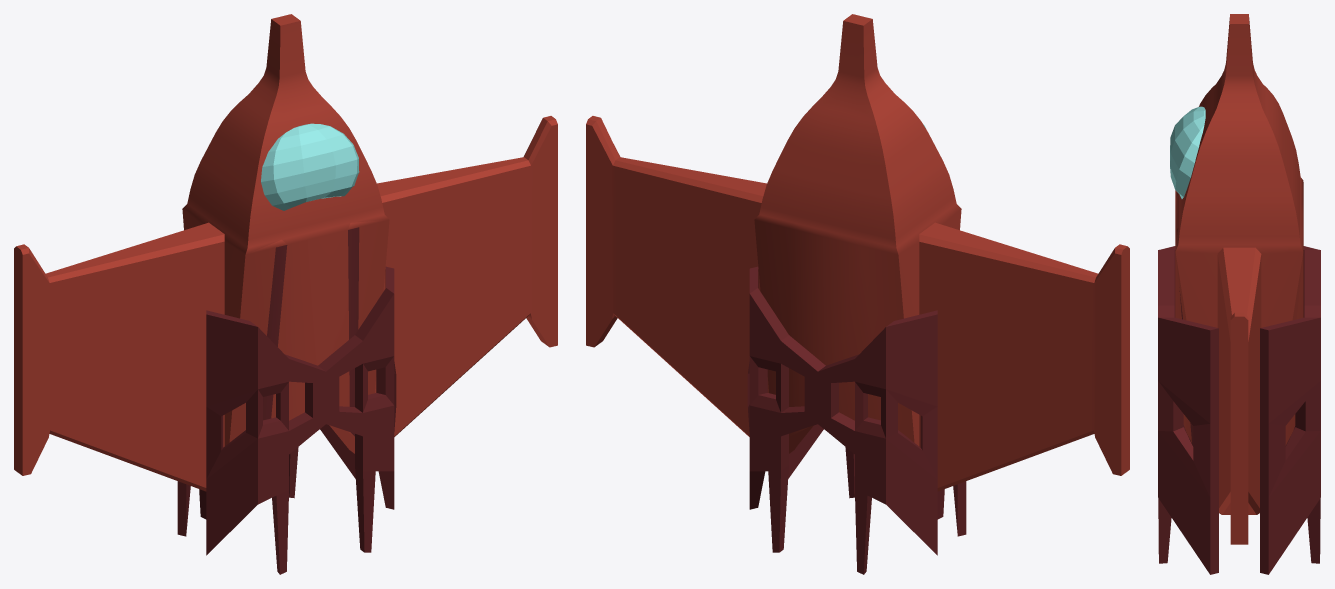
File: Player_rocket.fbx
3 renders of one model, left to right at view 1: azimuth 30°, elevation 25°; view 2: azimuth 150°, elevation 25°; view 3: azimuth 270°, elevation 25°, orthographic.
Visible parts, largest first — view 1: pCube4, pCube7, pSphere1; view 2: pCube4, pCube7; view 3: pCube4, pCube7, pSphere1.
Part boxes in pixels (<box>): pCube4: <box>14,14,557,491</box>; pCube7: <box>177,266,396,574</box>; pSphere1: <box>261,123,359,210</box>; pCube4: <box>586,14,1129,491</box>; pCube7: <box>747,266,966,574</box>; pCube4: <box>1175,14,1303,544</box>; pCube7: <box>1158,246,1320,574</box>; pSphere1: <box>1170,106,1205,198</box>.
Bounding box in the file's own units: 63.31 × 58.21 × 16.43.
